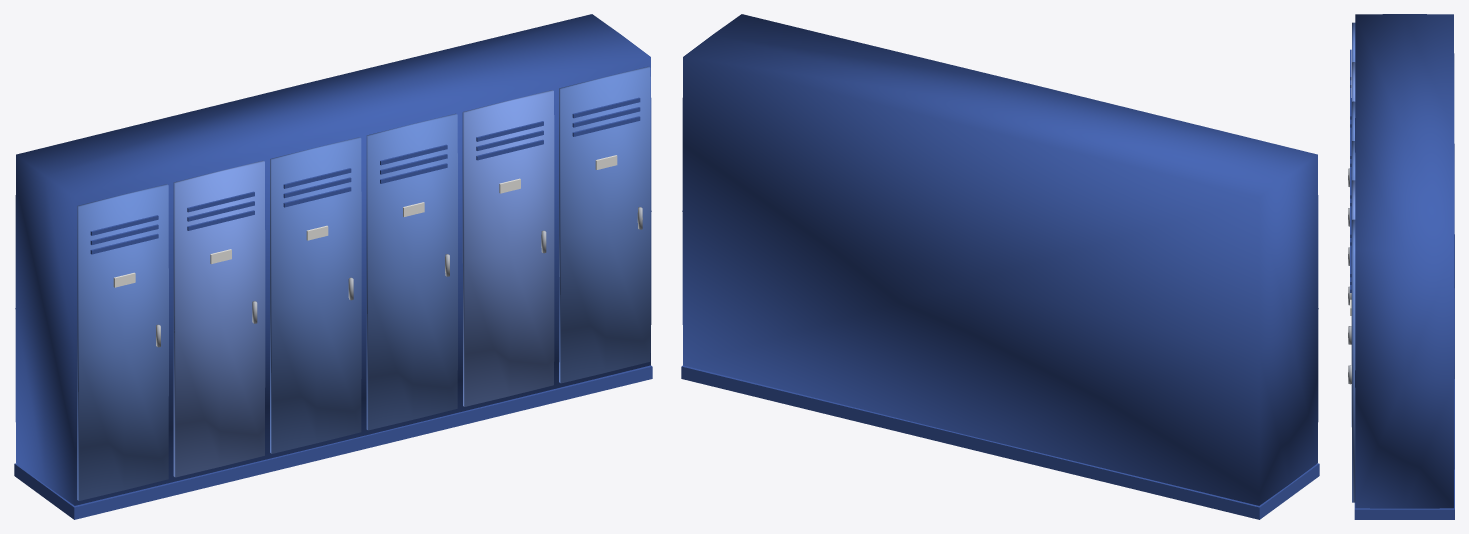
File: lockers.glb
The picture shows the model from 3 angles, left to right: view 1: azimuth 30°, elevation 25°; view 2: azimuth 150°, elevation 25°; view 3: azimuth 270°, elevation 25°; orthographic projection. The views are drawn at different scales.
Parts seen in each view (by area): view 1: root; view 2: root; view 3: root.
Part boxes in pixels (left/top/right/bottom): root: left=14, top=14, right=652, bottom=519; root: left=681, top=14, right=1319, bottom=519; root: left=1348, top=14, right=1454, bottom=519.
Bounding box in the file's own units: 3.9 × 2.08 × 0.745.
